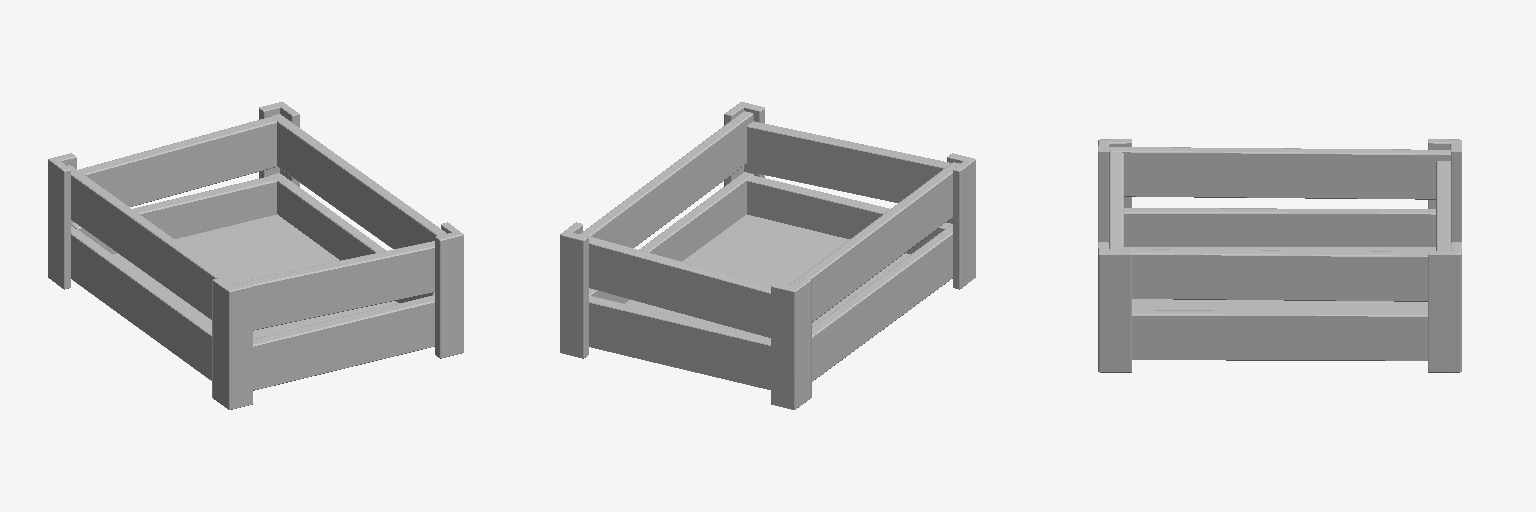
File: Palet5x2.obj
3 views of the same model, side by side, from view 1: azimuth 30°, elevation 25°; view 2: azimuth 150°, elevation 25°; view 3: azimuth 270°, elevation 25° (orthographic).
Parts seen in each view (by area): view 1: Palet5x2_Palet5x2; view 2: Palet5x2_Palet5x2; view 3: Palet5x2_Palet5x2.
Part boxes in pixels (x1,y1,x2,y2): Palet5x2_Palet5x2: (48, 102, 463, 409); Palet5x2_Palet5x2: (560, 102, 975, 409); Palet5x2_Palet5x2: (1098, 139, 1461, 372).
Size of the model in its own units: 4.13 by 1.99 by 5.51.